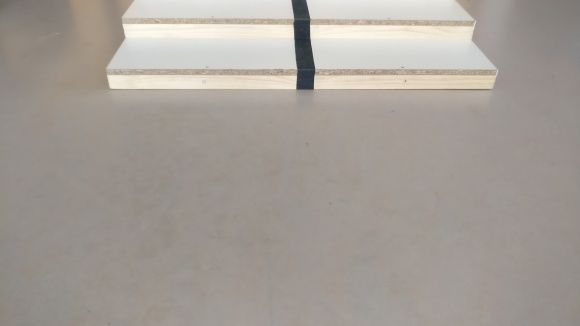stairs: (102, 1, 500, 92)
